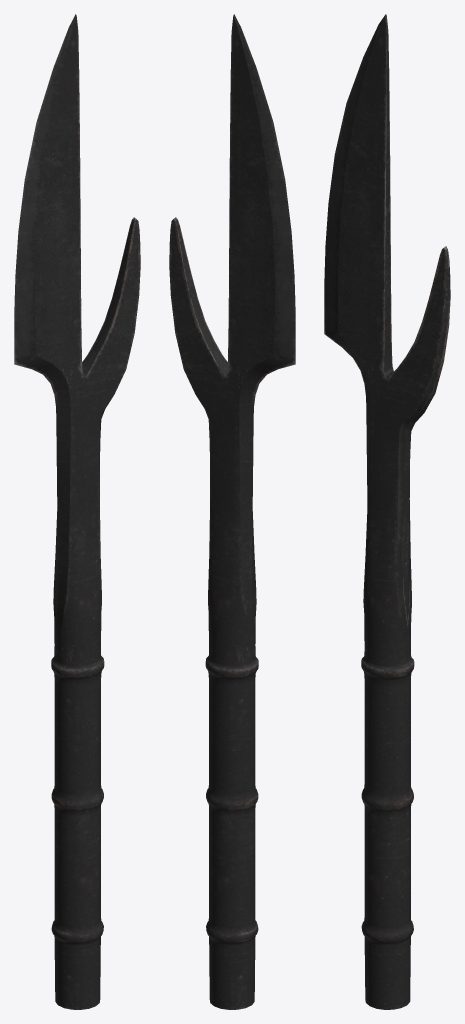
File: wm_isengard_1h_pike_a01_blade.fbx
The picture shows the model from 3 angles, left to right: view 1: azimuth 30°, elevation 25°; view 2: azimuth 150°, elevation 25°; view 3: azimuth 330°, elevation 25°; orthographic projection.
Parts seen in each view (by area): view 1: wm_isengard_1h_pike_a01_blade; view 2: wm_isengard_1h_pike_a01_blade; view 3: wm_isengard_1h_pike_a01_blade.
Boxes of the visible parts, box(x1,y1,x2,y2) form: wm_isengard_1h_pike_a01_blade: box(14, 14, 140, 1009); wm_isengard_1h_pike_a01_blade: box(169, 14, 295, 1009); wm_isengard_1h_pike_a01_blade: box(324, 14, 450, 1009).
Size of the model in its own units: 0.1339 by 0.0484 by 0.9986.
Materials: 1 (1 with a texture image).
